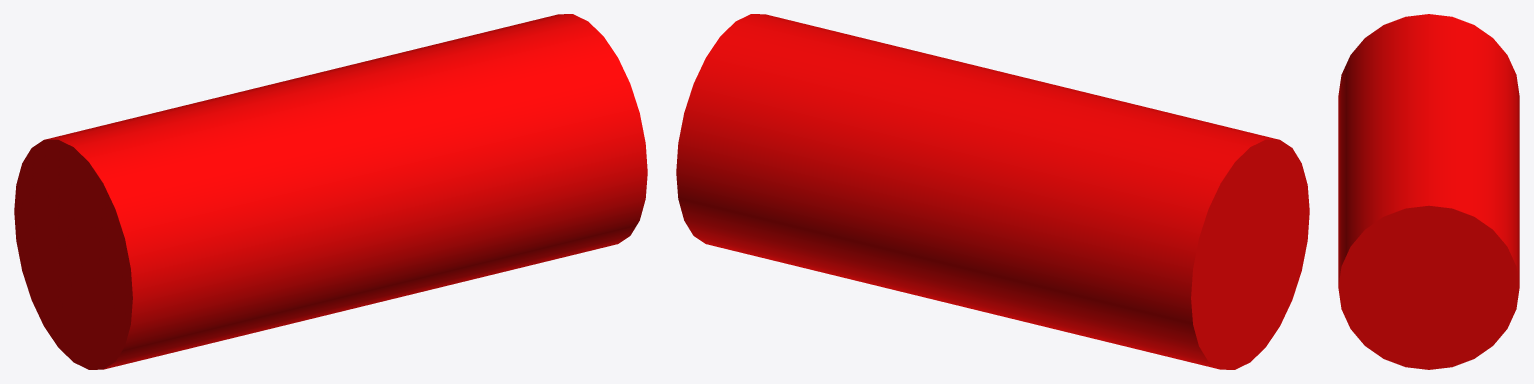
File: original-44.obj
The picture shows the model from 3 angles, left to right: view 1: azimuth 30°, elevation 25°; view 2: azimuth 150°, elevation 25°; view 3: azimuth 270°, elevation 25°; orthographic projection. The views are drawn at different scales.
Visible parts, largest first — view 1: group_20/ID310#ID310; view 2: group_20/ID310#ID310; view 3: group_20/ID310#ID310.
Part boxes in pixels (x1,y1,x2,y2): group_20/ID310#ID310: (14,14,647,369); group_20/ID310#ID310: (676,14,1309,369); group_20/ID310#ID310: (1338,14,1519,369).
Size of the model in its own units: 0.0408 by 0.0163 by 0.0163.
